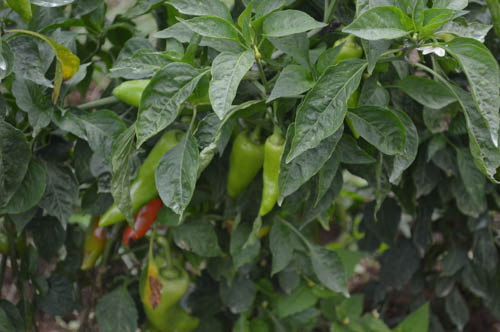ChiliPepper: (97, 131, 189, 219), (112, 81, 216, 114), (143, 268, 194, 329), (224, 136, 265, 202), (260, 142, 291, 220)
